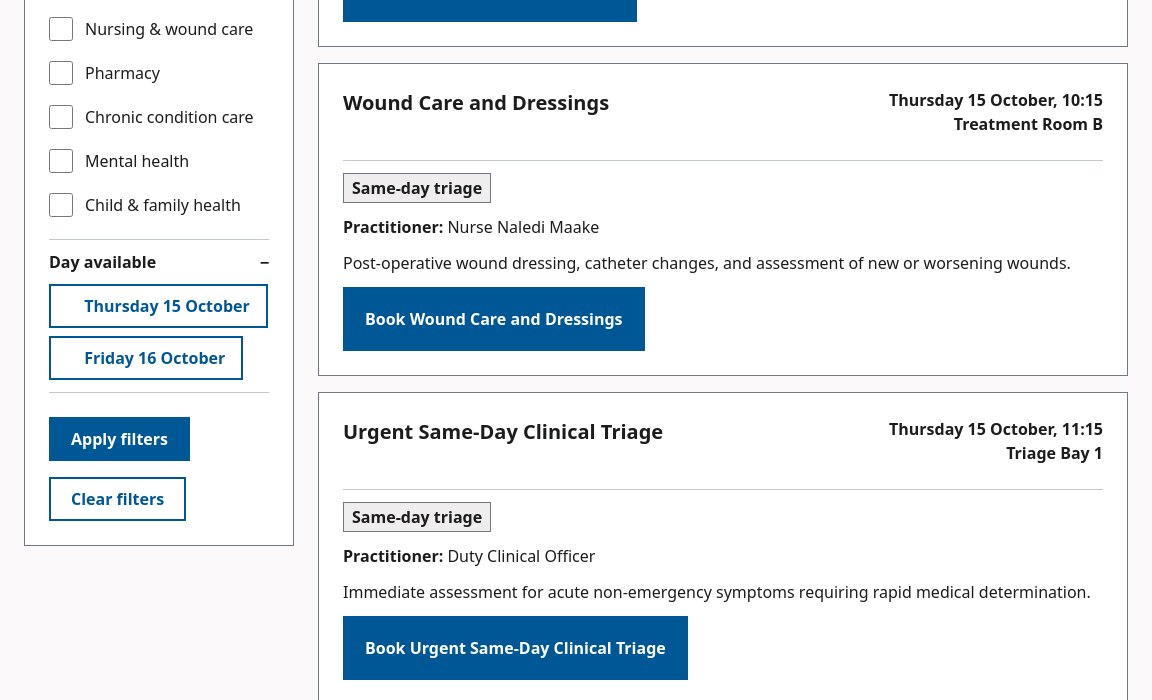
Test: ServicesPage › filters with aria-pressed day toggles
(page scrolled)
Click the button "Friday 16 October" at (146, 358), box [49,336,243,380]
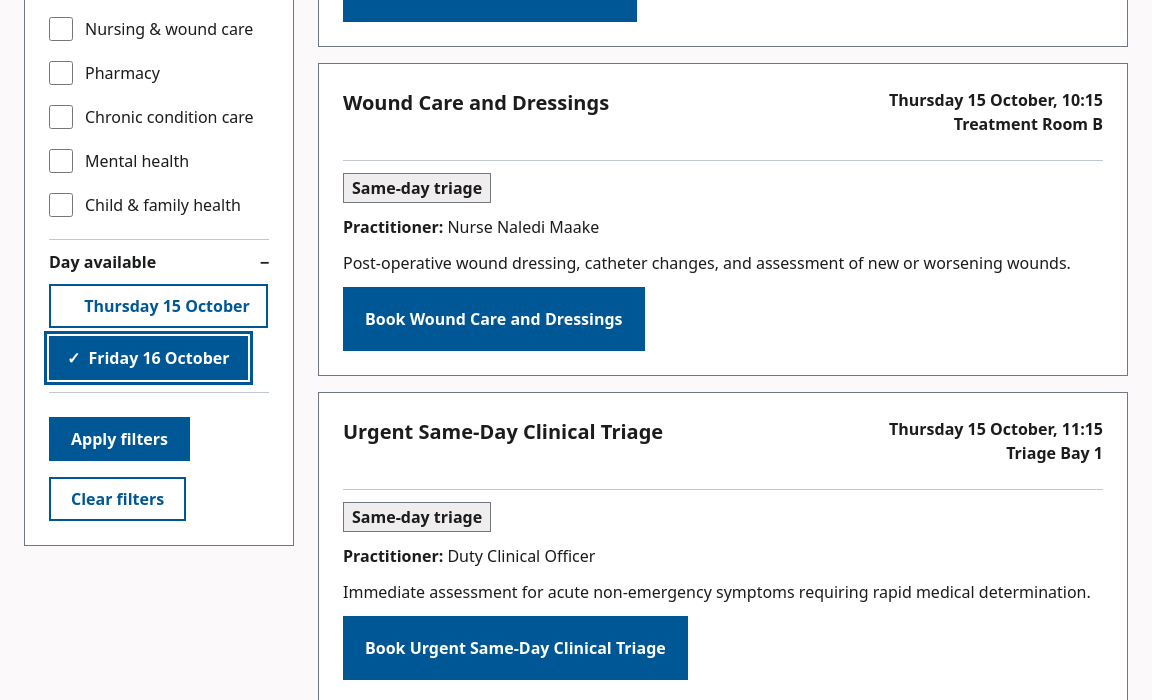
expect the button "✓ Friday 16 October" is pressed: met, box [49,336,248,380]
Click the button "Apply filters" at (120, 439), box [49,417,190,461]
(page scrolled)
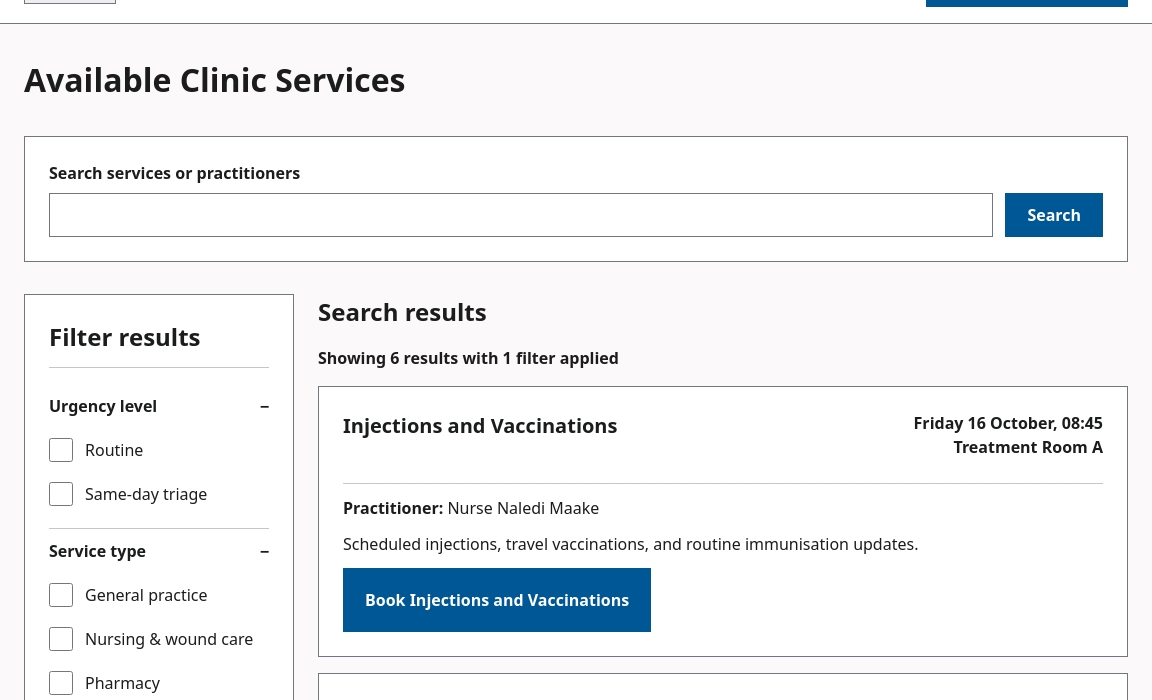
expect the text "Showing 6 results with 1 filter applied" is shown: met, box [318,347,619,369]
